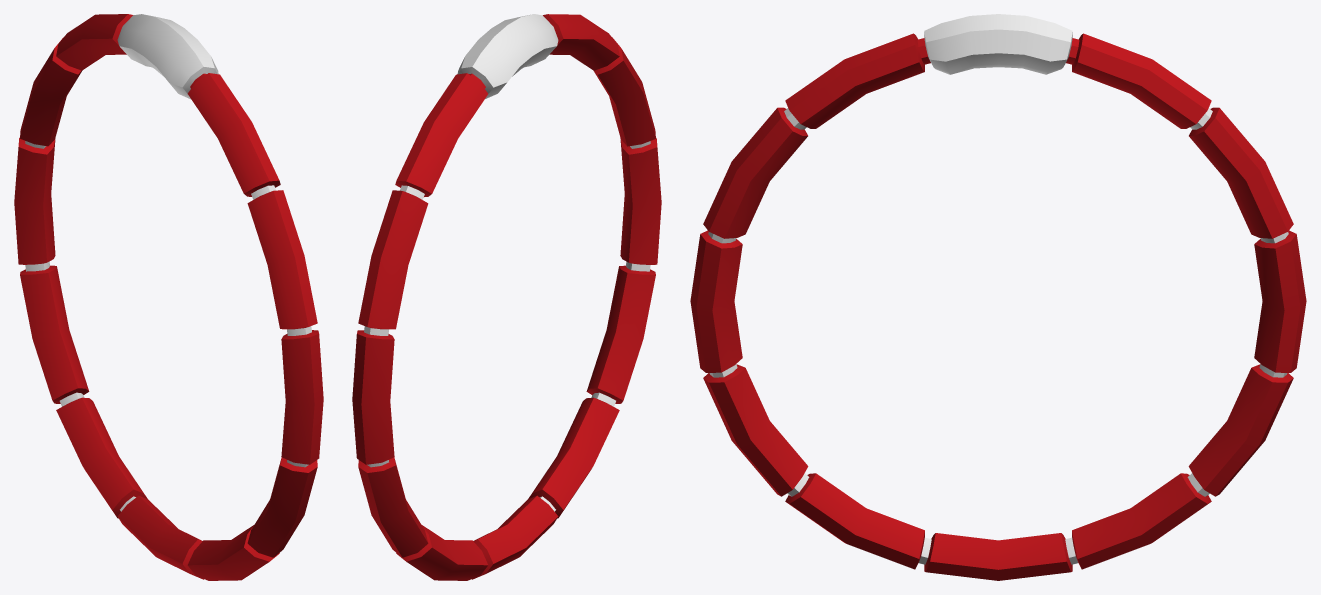
File: SM_PointRing_Water.fbx
3 renders of one model, left to right at view 1: azimuth 30°, elevation 25°; view 2: azimuth 150°, elevation 25°; view 3: azimuth 270°, elevation 25°, orthographic. The views are drawn at different scales.
Visible parts, largest first — view 1: SM_PointRing_Water; view 2: SM_PointRing_Water; view 3: SM_PointRing_Water.
Part boxes in pixels (left/top/right/bottom): SM_PointRing_Water: left=14, top=14, right=323, bottom=580; SM_PointRing_Water: left=352, top=14, right=661, bottom=580; SM_PointRing_Water: left=690, top=14, right=1306, bottom=580.
Bounding box in the file's own units: 55.43 × 578 × 570.
